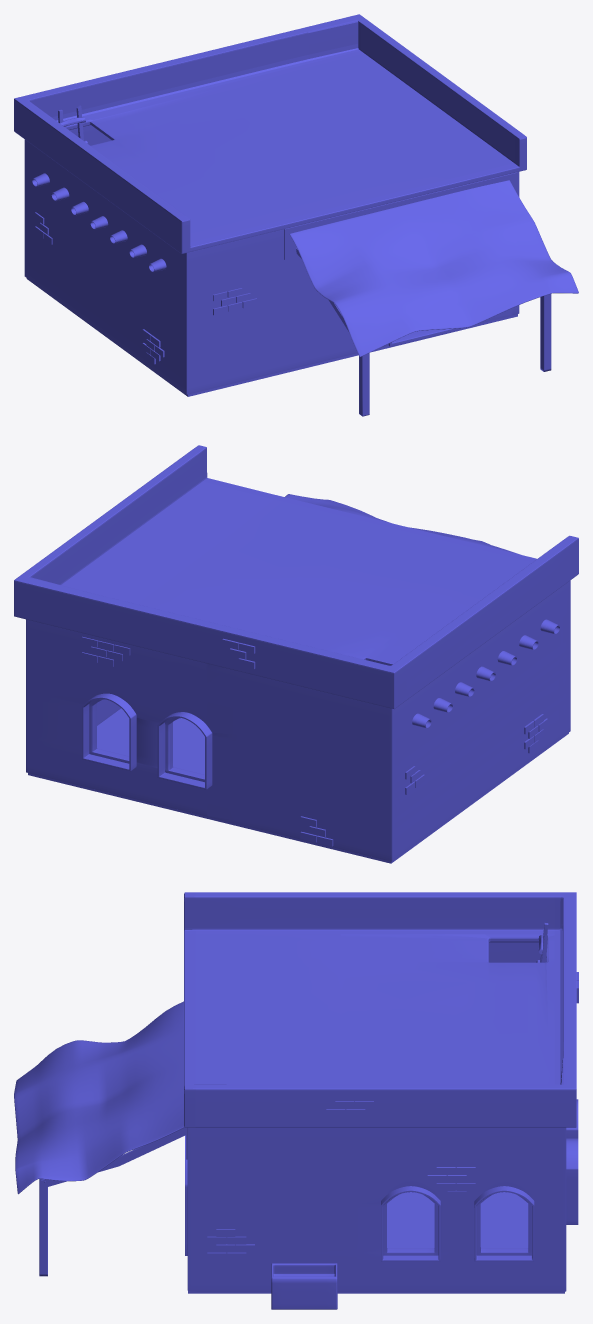
File: House2.fbx
3 views of the same model, one above another, from view 1: azimuth 30°, elevation 25°; view 2: azimuth 150°, elevation 25°; view 3: azimuth 270°, elevation 25° (orthographic). The views are drawn at different scales.
Visible parts, largest first — view 1: Techo.001, ParedPuerta.001, Toldo.001, Toldo.008, Ladrillos8.001, Desague.002, Suelo.002, Toldo.006, Toldo.003; view 2: Techo.001, ParedPuerta.001, Suelo.002, Ladrillos8.001, Arco.012, Arco.011, Desague.002, Toldo.001; view 3: Techo.001, ParedPuerta.001, Toldo.001, Suelo.002, Jardinera.001, Ladrillos8.001, Arco.007, Arco.011, Arco.001, Toldo.007, Toldo.006.
Boxes of the visible parts, x1,y1,x2,y2 form: Techo.001: [14, 14, 526, 253]; ParedPuerta.001: [24, 125, 519, 394]; Toldo.001: [289, 180, 578, 356]; Toldo.008: [284, 172, 517, 259]; Ladrillos8.001: [35, 212, 257, 364]; Desague.002: [32, 173, 166, 272]; Suelo.002: [26, 278, 517, 396]; Toldo.006: [540, 294, 551, 371]; Toldo.003: [359, 353, 369, 416]; Techo.001: [14, 445, 578, 708]; ParedPuerta.001: [26, 580, 570, 861]; Suelo.002: [28, 708, 568, 863]; Ladrillos8.001: [81, 636, 548, 846]; Arco.012: [157, 712, 212, 789]; Arco.011: [82, 693, 136, 770]; Desague.002: [412, 619, 560, 728]; Toldo.001: [285, 494, 519, 554]; Techo.001: [184, 892, 576, 1127]; ParedPuerta.001: [187, 942, 566, 1291]; Toldo.001: [14, 1001, 184, 1194]; Suelo.002: [188, 1192, 564, 1293]; Jardinera.001: [271, 1263, 337, 1309]; Ladrillos8.001: [207, 972, 578, 1260]; Arco.007: [474, 1186, 534, 1261]; Arco.011: [566, 1138, 578, 1224]; Arco.001: [381, 1186, 440, 1261]; Toldo.007: [41, 1127, 185, 1187]; Toldo.006: [39, 1179, 47, 1276].
Size of the model in its own units: 932 by 430 by 1051.
